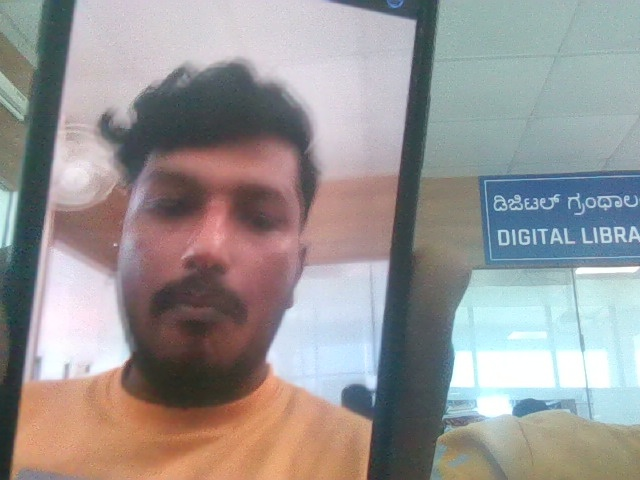fake: (82, 48, 329, 398)
